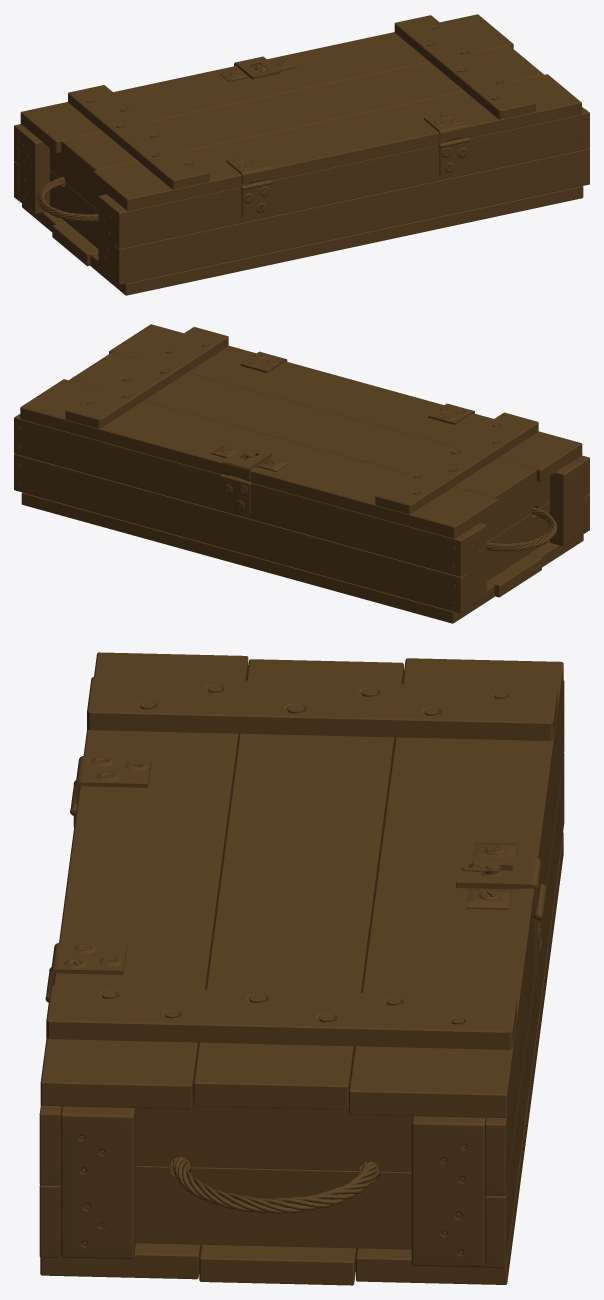
The model's file is MilitaryChest.fbx.
The picture shows the model from 3 angles, top to bottom: view 1: azimuth 30°, elevation 25°; view 2: azimuth 150°, elevation 25°; view 3: azimuth 270°, elevation 25°; orthographic projection. The views are drawn at different scales.
Parts seen in each view (by area): view 1: topplank___LOW; view 2: topplank___LOW; view 3: topplank___LOW.
Boxes of the visible parts, x1=… form: topplank___LOW: x1=14, y1=14, x2=589, y2=295; topplank___LOW: x1=14, y1=324, x2=589, y2=623; topplank___LOW: x1=39, y1=652, x2=564, y2=1285.
Bounding box in the file's own units: 474 × 95.17 × 214.
